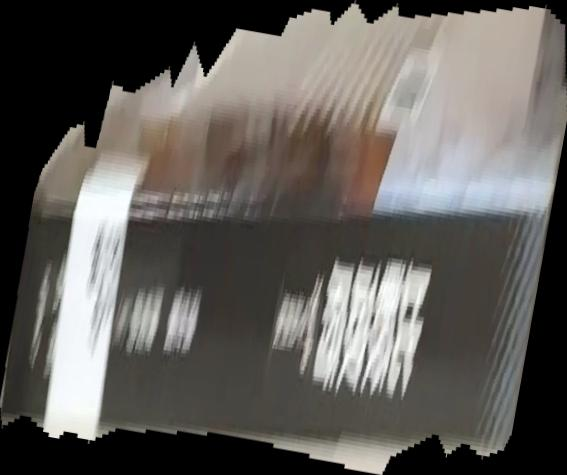flat: (1, 1, 567, 475)
